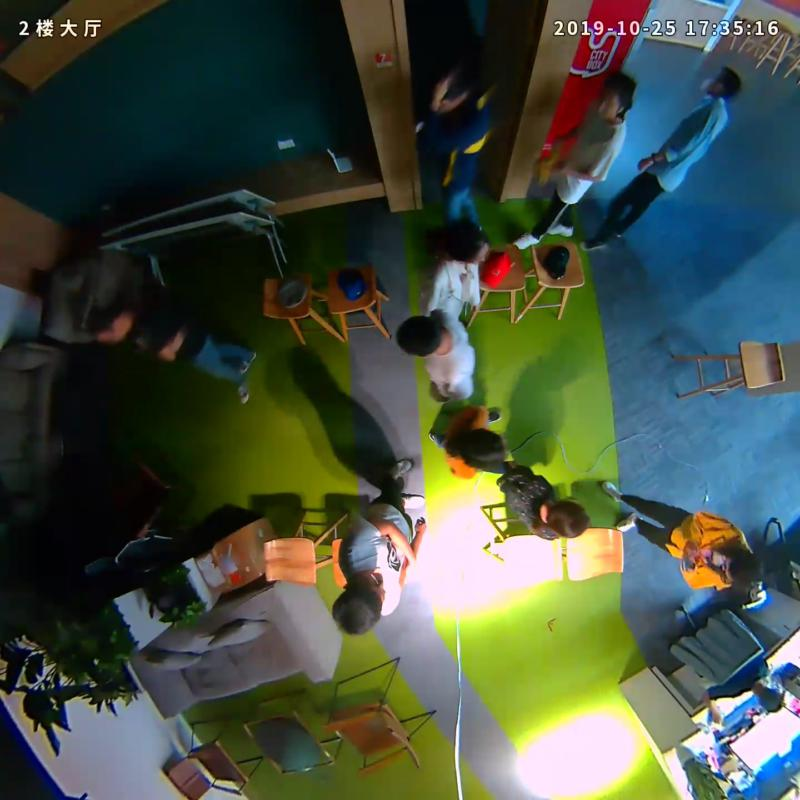head: (331, 571, 388, 635), (595, 70, 636, 124), (86, 301, 135, 346), (397, 315, 445, 359), (540, 496, 587, 539), (462, 429, 507, 472), (431, 66, 467, 114), (447, 228, 491, 263), (719, 549, 759, 587), (701, 65, 743, 101)
